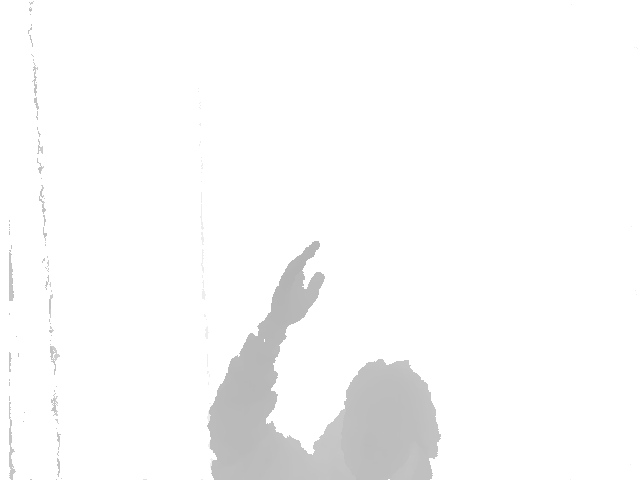hand: (258, 240, 326, 335)
head: (342, 359, 440, 463)
person: (207, 241, 441, 480)
